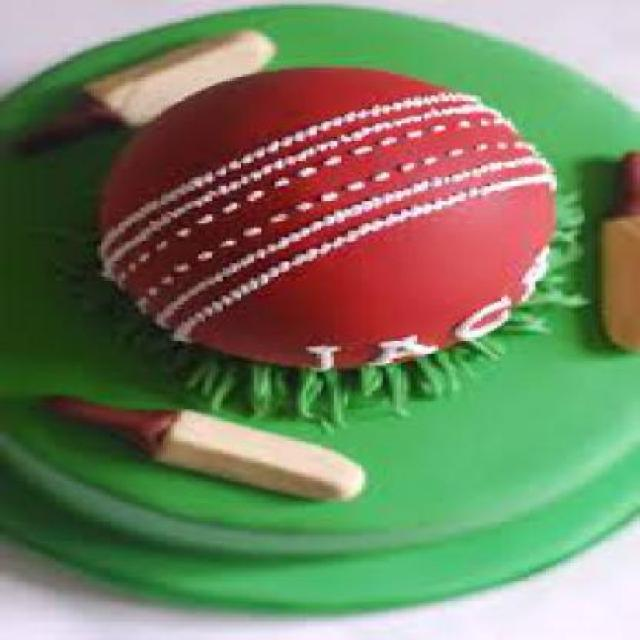ball: (98, 85, 562, 361)
